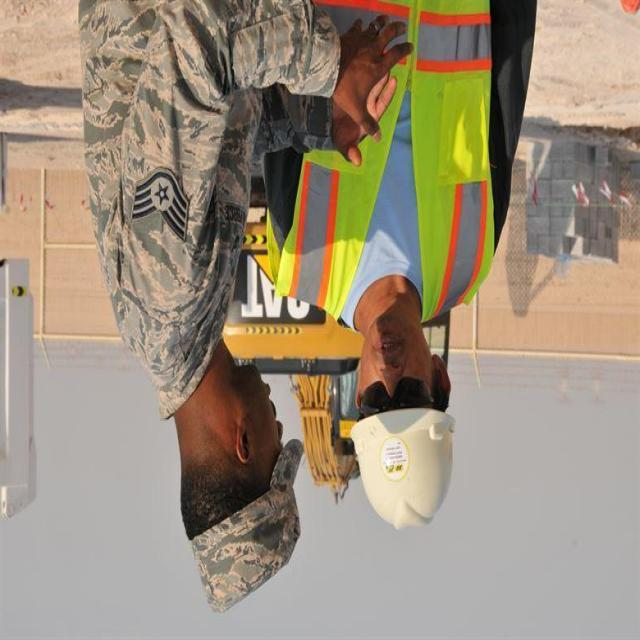helmet: (340, 401, 466, 546)
jacket: (256, 10, 514, 350)
